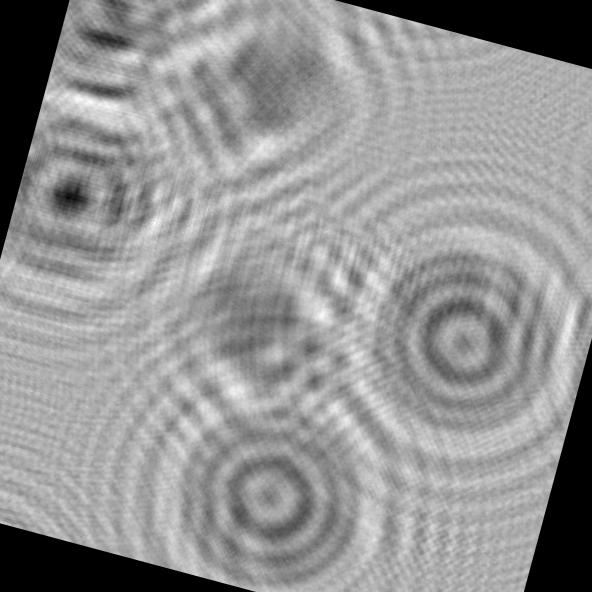P: (0, 52, 248, 380)
Q: (285, 163, 592, 517), (89, 314, 462, 592)
S: (39, 0, 245, 152)
T: (104, 151, 431, 481), (108, 0, 424, 249)
